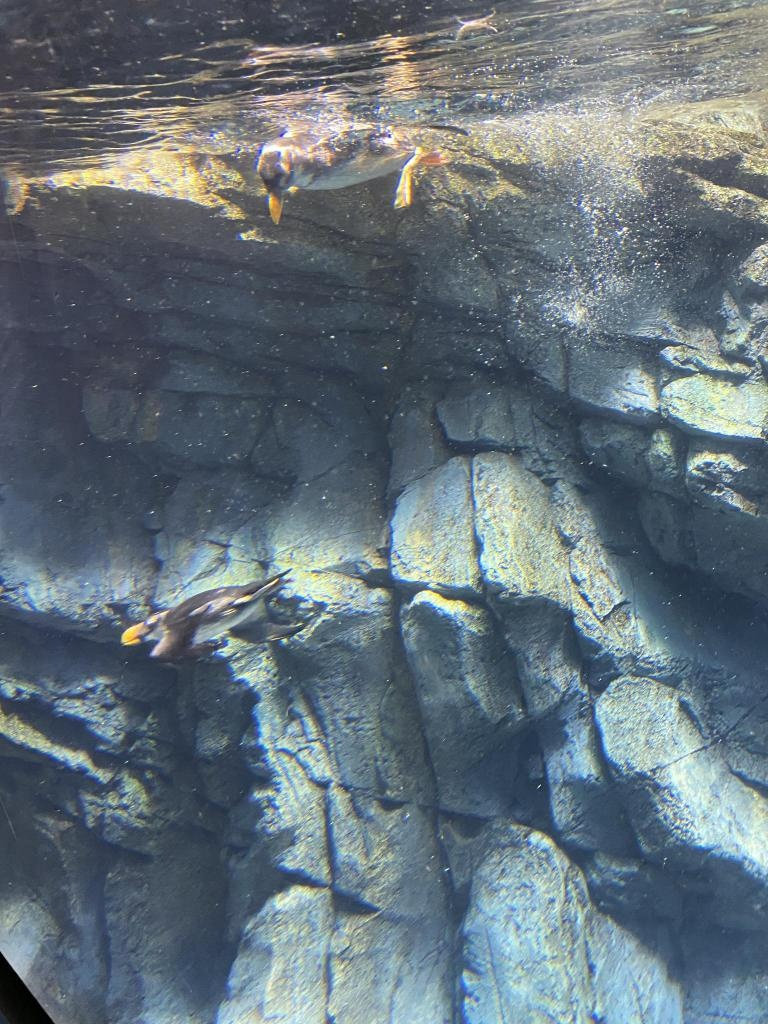puffin: (257, 118, 449, 226), (122, 566, 310, 664)
